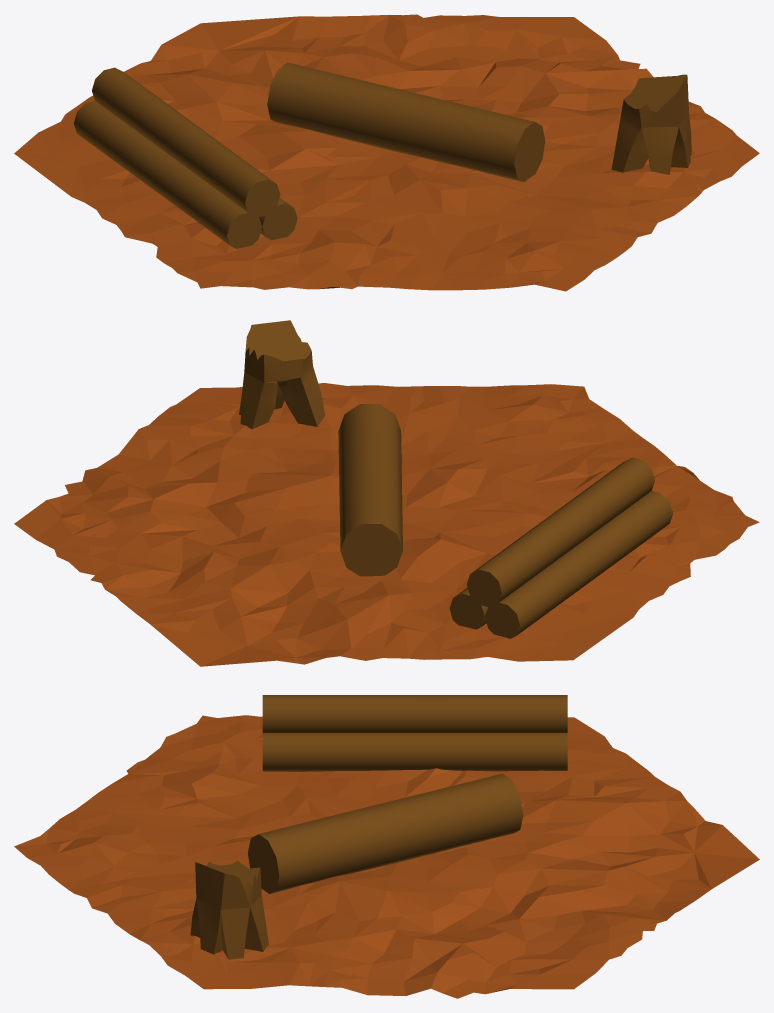
Rendered from Barren Add On.fbx.
3 views of the same model, one above another, from view 1: azimuth 30°, elevation 25°; view 2: azimuth 150°, elevation 25°; view 3: azimuth 270°, elevation 25° (orthographic).
Parts seen in each view (by area): view 1: Cylinder.005, LogPile, BigLog, Stump; view 2: Cylinder.005, LogPile, BigLog, Stump; view 3: Cylinder.005, LogPile, BigLog, Stump.
Part boxes in pixels (bbox=[...]): Cylinder.005: bbox=[14, 14, 759, 291]; LogPile: bbox=[73, 67, 297, 248]; BigLog: bbox=[267, 62, 545, 182]; Stump: bbox=[611, 74, 691, 174]; Cylinder.005: bbox=[14, 383, 759, 666]; LogPile: bbox=[449, 457, 673, 638]; BigLog: bbox=[338, 404, 402, 576]; Stump: bbox=[239, 320, 325, 429]; Cylinder.005: bbox=[14, 715, 759, 998]; LogPile: bbox=[262, 695, 567, 771]; BigLog: bbox=[248, 773, 523, 894]; Stump: bbox=[190, 861, 268, 959].
Bounding box in the file's own units: 1.61 × 0.3207 × 1.83.
